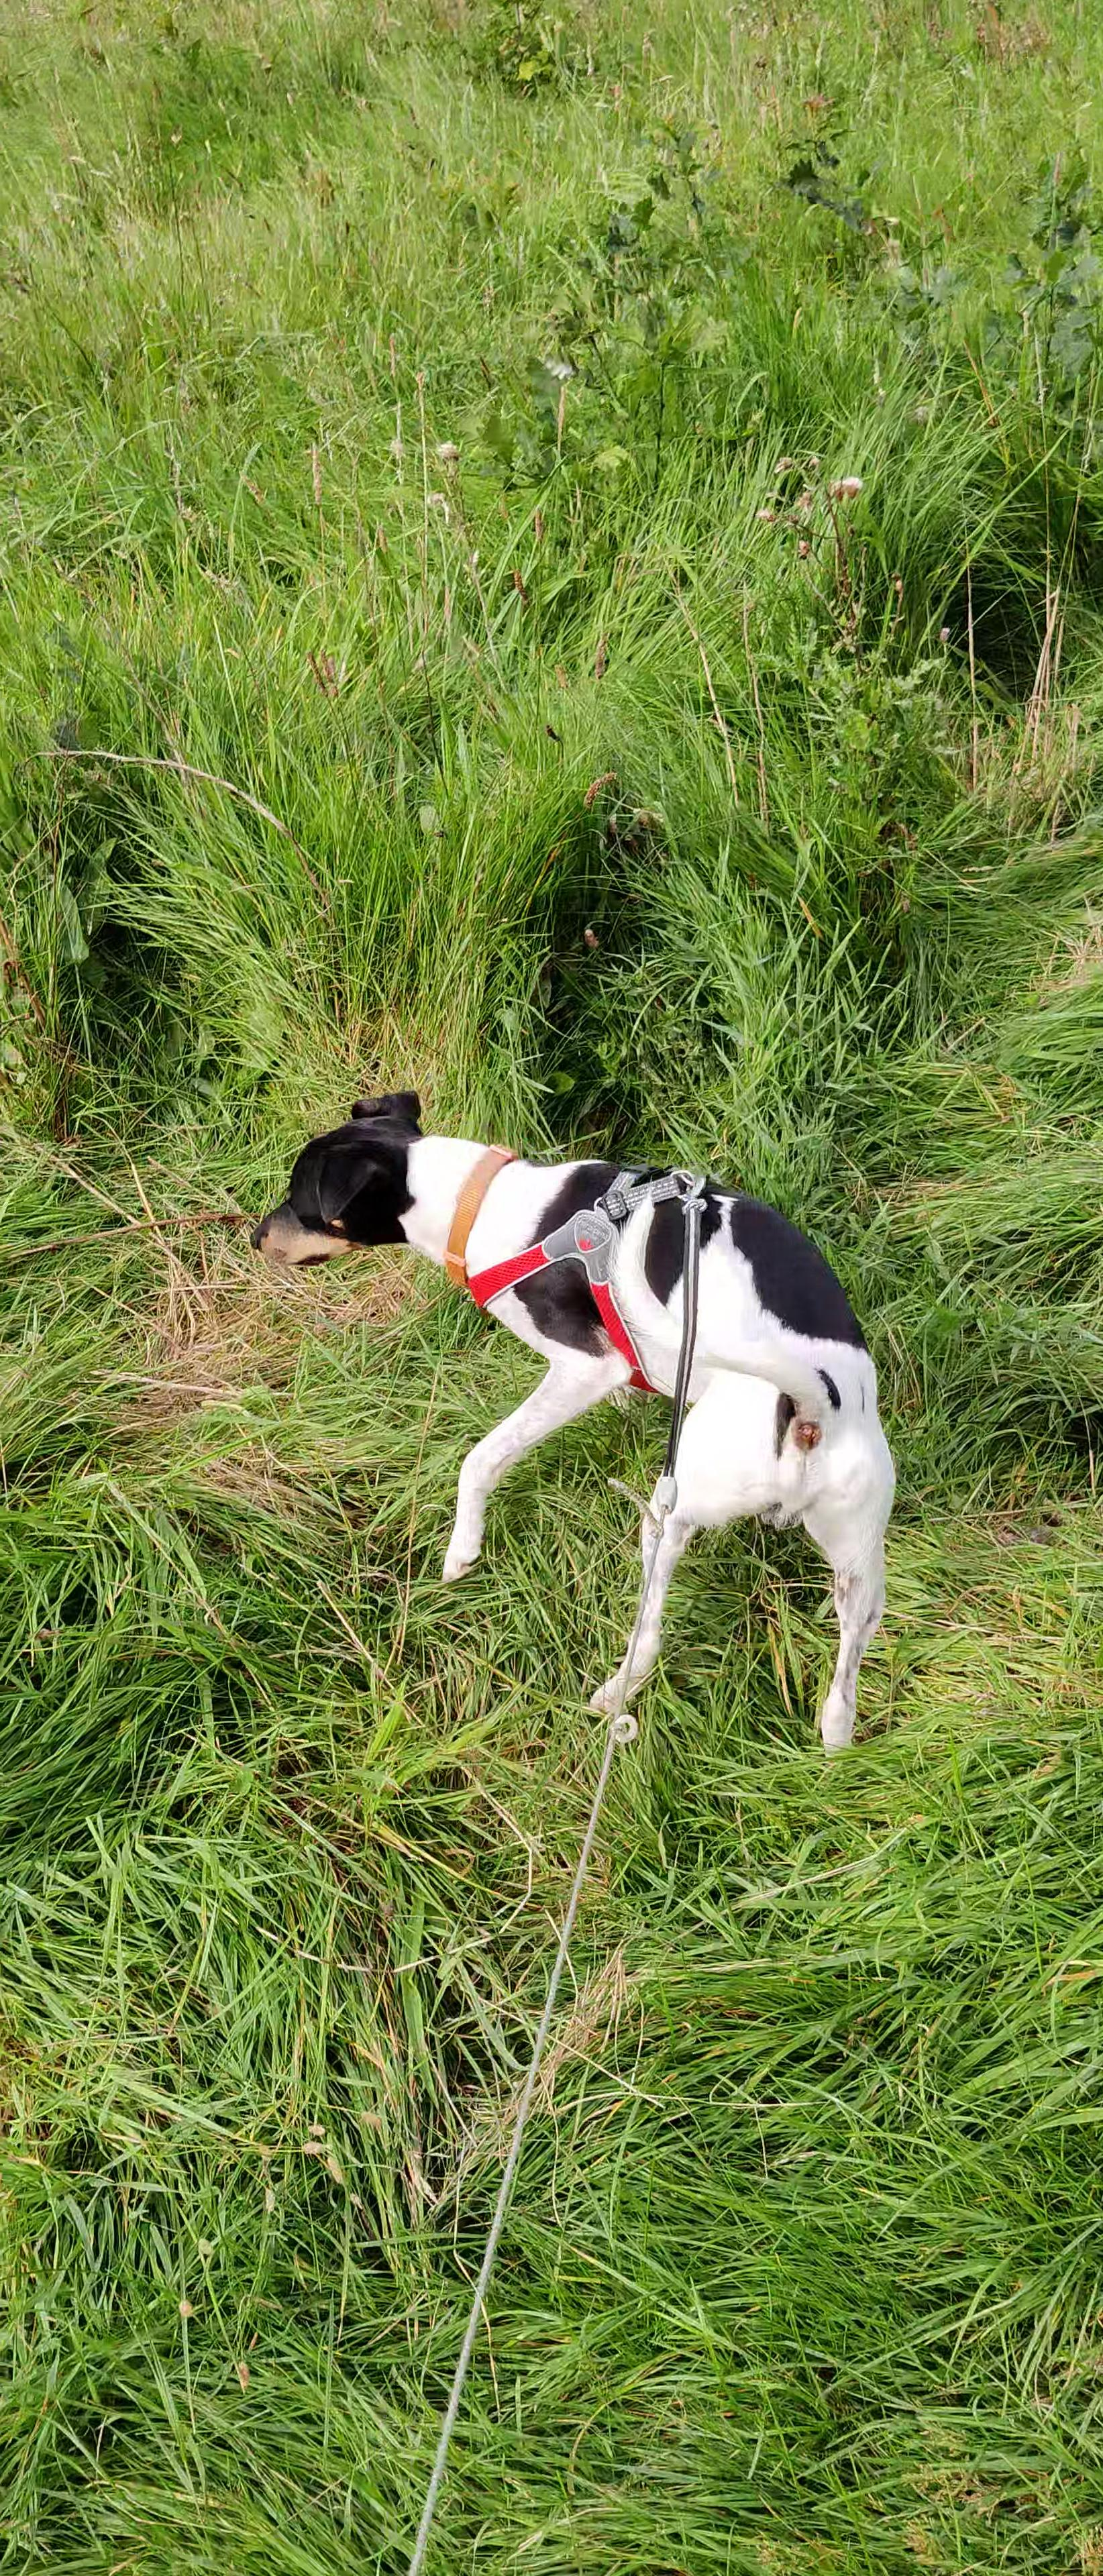Dog: (222, 1048, 921, 1778)
